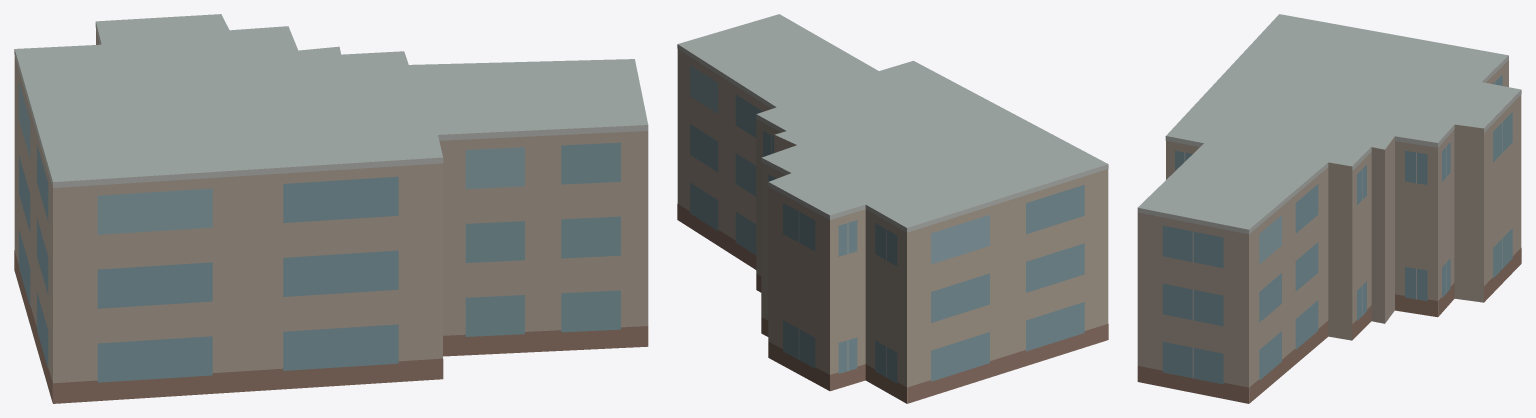
Rendered from survey-upis-32814288.glb.
The picture shows the model from 3 angles, left to right: view 1: azimuth 30°, elevation 25°; view 2: azimuth 150°, elevation 25°; view 3: azimuth 270°, elevation 25°; orthographic projection. The views are drawn at different scales.
Visible parts, largest first — view 1: survey-upis-32814288.tmp; view 2: survey-upis-32814288.tmp; view 3: survey-upis-32814288.tmp.
Part boxes in pixels (x1=…): survey-upis-32814288.tmp: x1=14, y1=14, x2=648, y2=403; survey-upis-32814288.tmp: x1=677, y1=14, x2=1108, y2=403; survey-upis-32814288.tmp: x1=1137, y1=14, x2=1521, y2=403.
Size of the model in its own units: 24.31 by 9.15 by 18.29.
